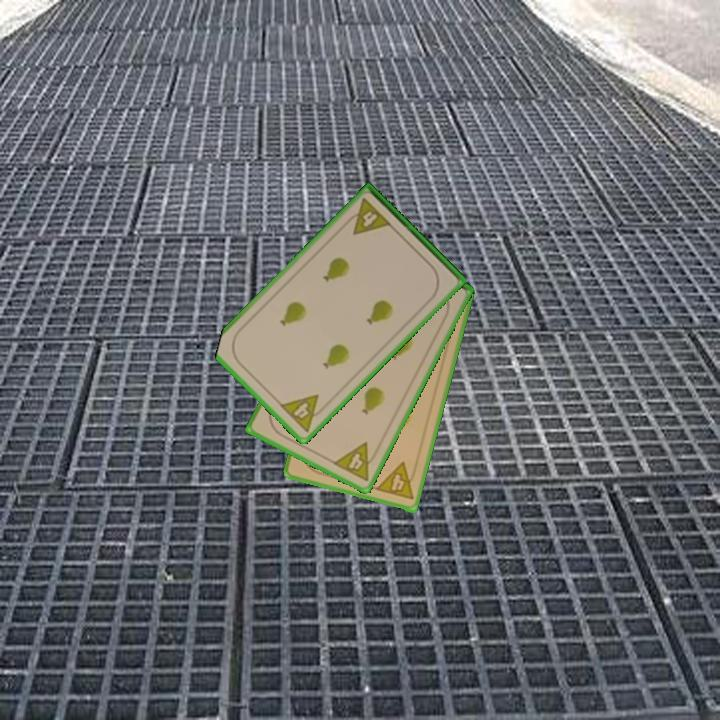4p: (329, 439, 382, 485), (276, 391, 331, 435), (341, 194, 394, 238), (372, 459, 420, 503)
